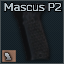P226 Hogue Chain Link pistol grip: (0, 0, 64, 64)
